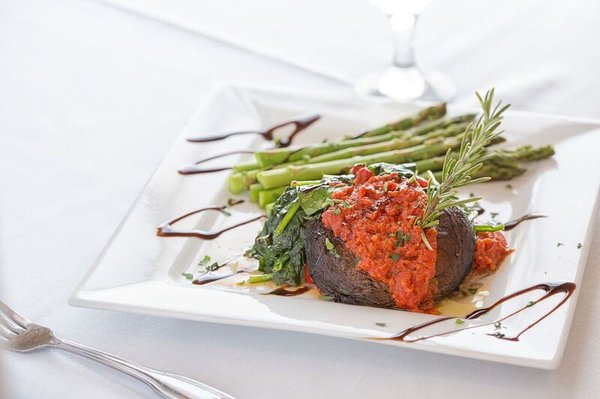sandwich: (353, 2, 436, 104)
